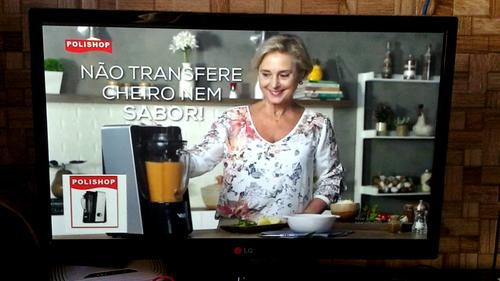Polishop #1: (63, 173, 128, 232)
